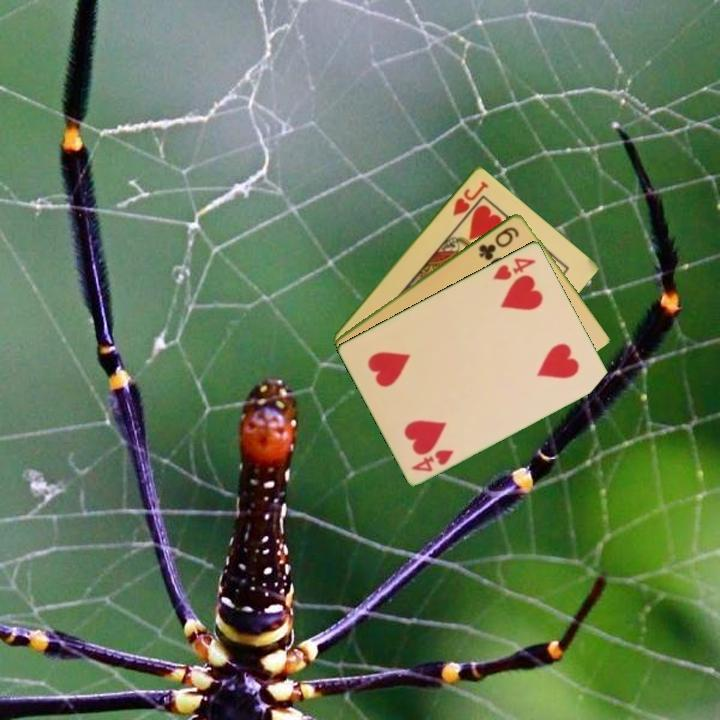4h: (407, 445, 457, 474), (489, 254, 538, 283)
6c: (475, 223, 522, 263)
Jh: (449, 177, 491, 219)
